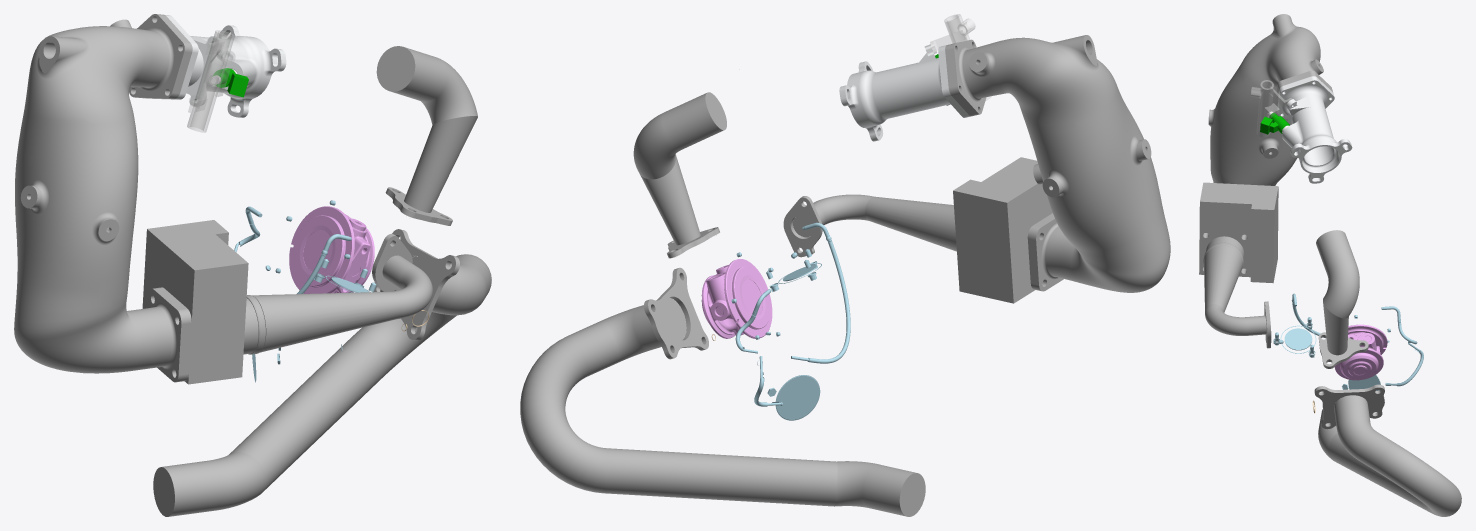
3 renders of one model, left to right at view 1: azimuth 30°, elevation 25°; view 2: azimuth 150°, elevation 25°; view 3: azimuth 270°, elevation 25°, orthographic. The views are drawn at different scales.
Visible parts, largest first — view 1: P-06651 - TurboPlenum-1, P-06650 - PostTurboExhaust-1, P-06667 - Electronic Throttle Body-1, P-06649 - PreTurboExhaust-1, P-06665 - Turbo2Throttle-1, P-06642 - GT10 Cartridge-1, P-06635- SingleInjectorBodyHardMount-1, P-06632-FuelRail_Single-1, P-06643 - GT10 Compressor-1, YFZ_FuelInjector-TB-1; view 2: P-06651 - TurboPlenum-1, P-06650 - PostTurboExhaust-1, P-06667 - Electronic Throttle Body-1, P-06649 - PreTurboExhaust-1, P-06665 - Turbo2Throttle-1, P-06635- SingleInjectorBodyHardMount-1, P-06642 - GT10 Cartridge-1, P-06643 - GT10 Compressor-1, P-06632-FuelRail_Single-1; view 3: P-06651 - TurboPlenum-1, P-06650 - PostTurboExhaust-1, P-06667 - Electronic Throttle Body-1, P-06635- SingleInjectorBodyHardMount-1, P-06649 - PreTurboExhaust-1, P-06665 - Turbo2Throttle-1, P-06643 - GT10 Compressor-1, P-06642 - GT10 Cartridge-1, P-06632-FuelRail_Single-1, YFZ_FuelInjector-TB-1.
Part boxes in pixels (<box>): P-06651 - TurboPlenum-1: <box>14,14,192,382</box>; P-06650 - PostTurboExhaust-1: <box>153,229,491,516</box>; P-06667 - Electronic Throttle Body-1: <box>142,220,265,384</box>; P-06649 - PreTurboExhaust-1: <box>376,46,477,225</box>; P-06665 - Turbo2Throttle-1: <box>252,233,432,352</box>; P-06642 - GT10 Cartridge-1: <box>289,206,374,293</box>; P-06635- SingleInjectorBodyHardMount-1: <box>146,14,286,117</box>; P-06632-FuelRail_Single-1: <box>187,30,235,132</box>; P-06643 - GT10 Compressor-1: <box>234,200,376,382</box>; YFZ_FuelInjector-TB-1: <box>211,68,248,97</box>; P-06651 - TurboPlenum-1: <box>945,35,1170,292</box>; P-06650 - PostTurboExhaust-1: <box>520,267,925,516</box>; P-06667 - Electronic Throttle Body-1: <box>953,157,1052,303</box>; P-06649 - PreTurboExhaust-1: <box>633,92,726,258</box>; P-06665 - Turbo2Throttle-1: <box>783,194,956,257</box>; P-06635- SingleInjectorBodyHardMount-1: <box>839,44,970,141</box>; P-06642 - GT10 Cartridge-1: <box>701,259,772,338</box>; P-06643 - GT10 Compressor-1: <box>731,222,850,420</box>; P-06632-FuelRail_Single-1: <box>930,14,991,100</box>; P-06651 - TurboPlenum-1: <box>1208,14,1332,185</box>; P-06650 - PostTurboExhaust-1: <box>1314,384,1461,516</box>; P-06667 - Electronic Throttle Body-1: <box>1199,182,1278,283</box>; P-06635- SingleInjectorBodyHardMount-1: <box>1277,76,1352,183</box>; P-06649 - PreTurboExhaust-1: <box>1316,230,1368,368</box>; P-06665 - Turbo2Throttle-1: <box>1204,245,1271,348</box>; P-06643 - GT10 Compressor-1: <box>1273,293,1423,390</box>; P-06642 - GT10 Cartridge-1: <box>1334,324,1387,380</box>; P-06632-FuelRail_Single-1: <box>1251,80,1291,137</box>; YFZ_FuelInjector-TB-1: <box>1260,111,1289,134</box>.
Bounding box in the file's own units: 0.5929 × 0.5305 × 0.3407.
